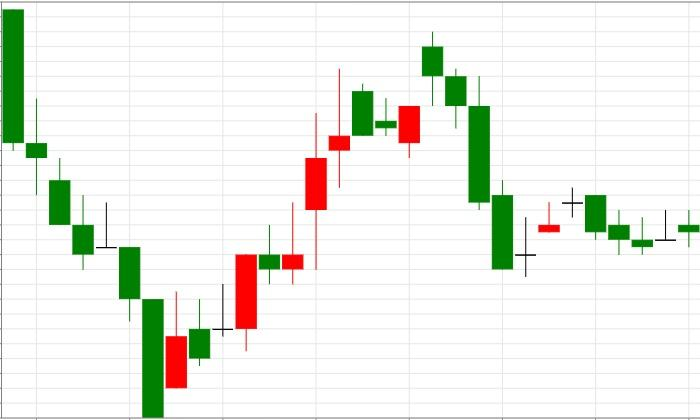three_black_crows_fall: (306, 32, 491, 270)
